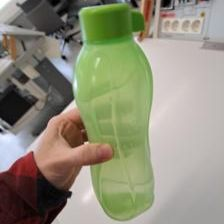bottle: (73, 2, 157, 219)
